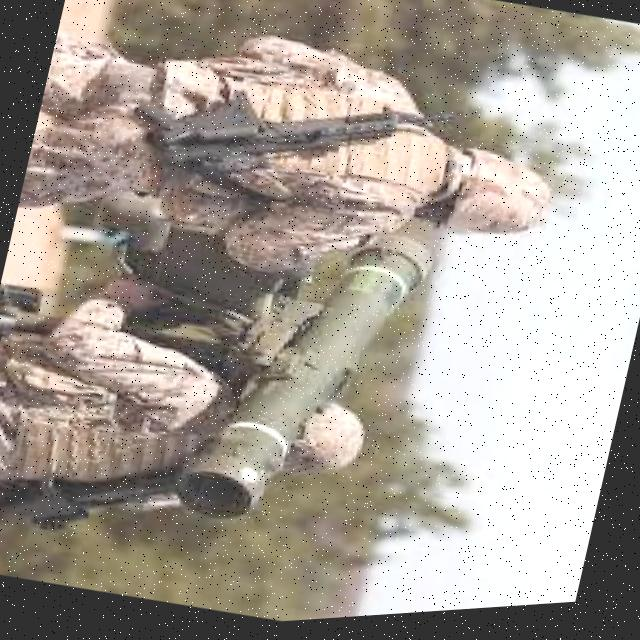rocket: (166, 200, 445, 561)
